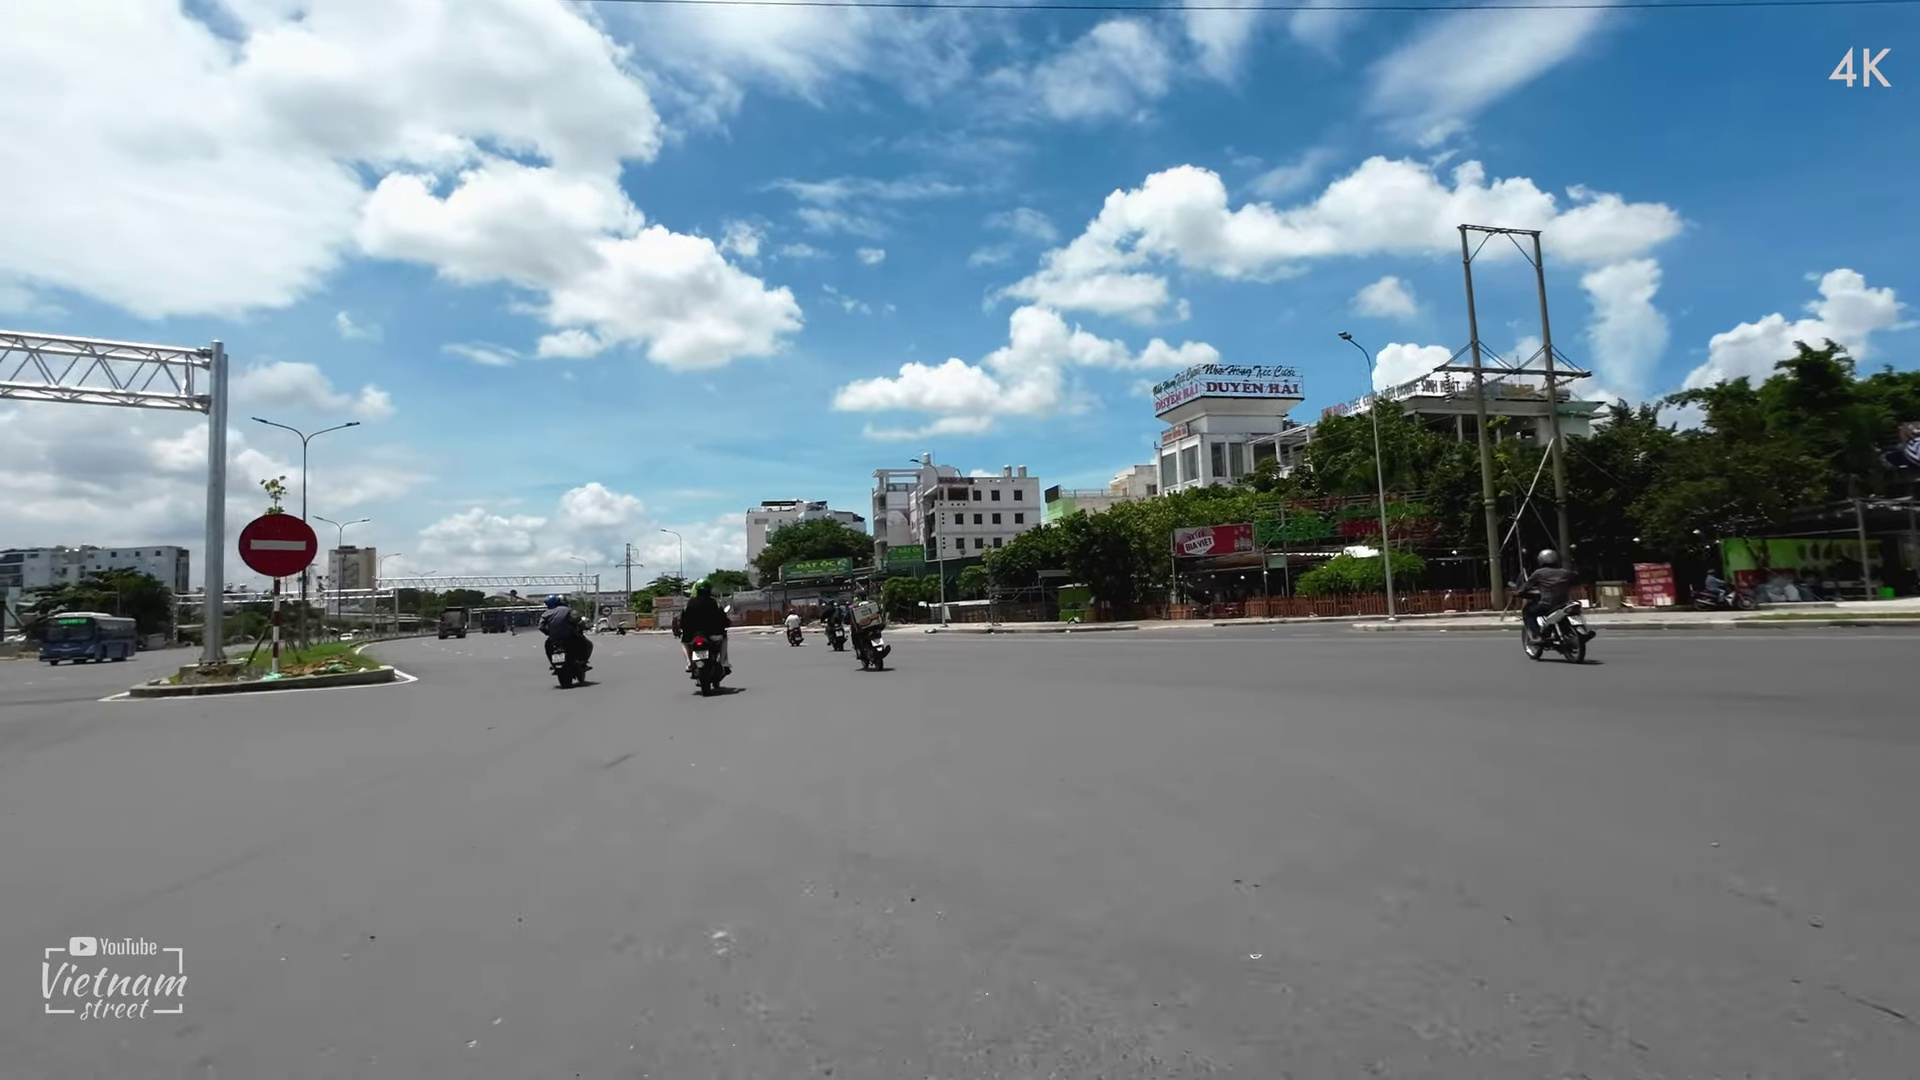cam_nguoc_chieu: (233, 508, 320, 582)
